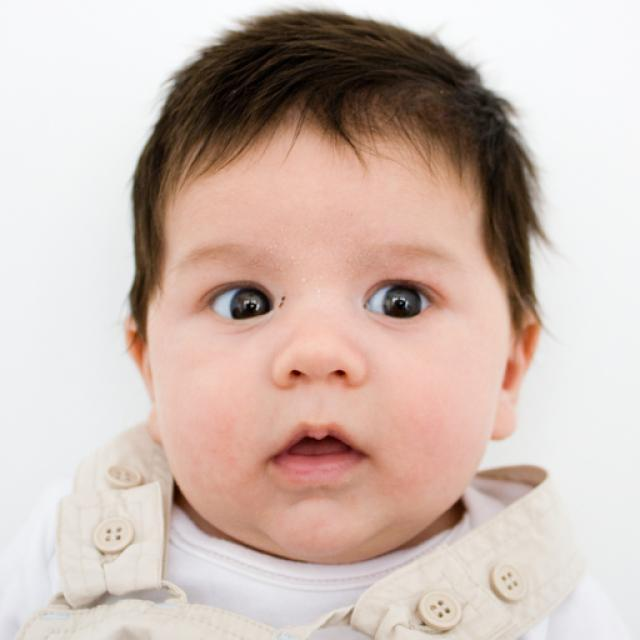fear: (150, 131, 499, 559)
